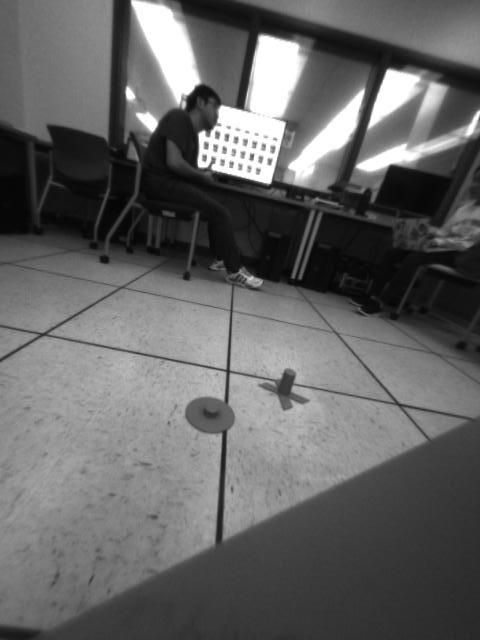X: (258, 368, 310, 411)
